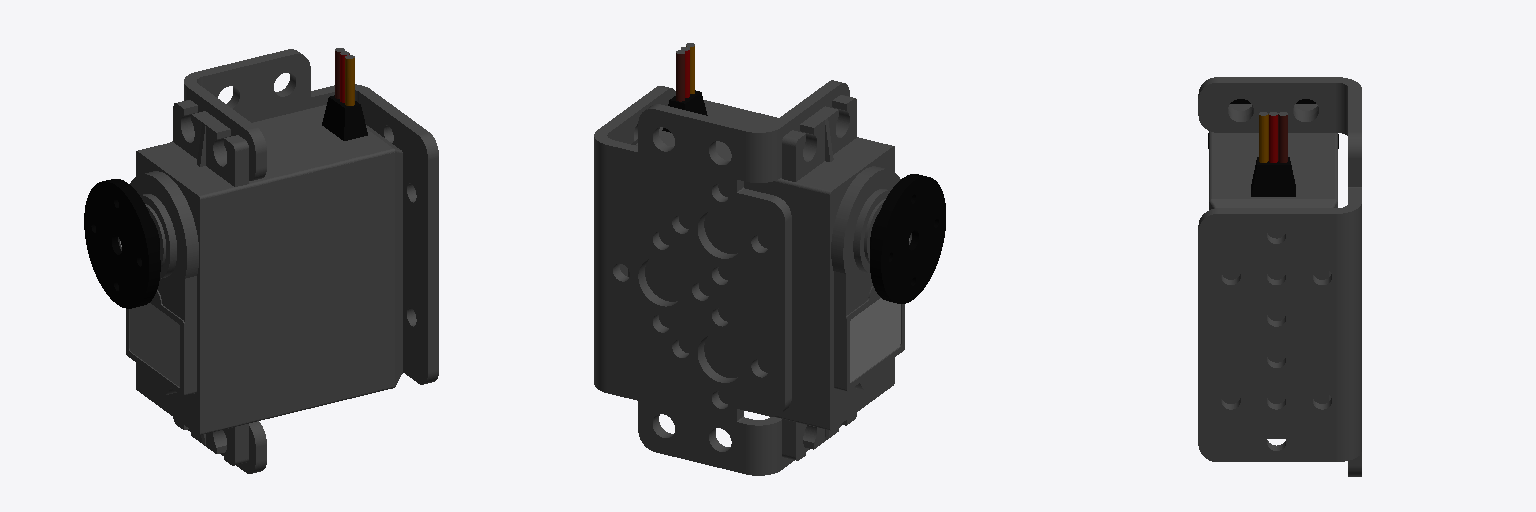
File: art_03.obj
The picture shows the model from 3 angles: view 1: azimuth 30°, elevation 25°; view 2: azimuth 150°, elevation 25°; view 3: azimuth 270°, elevation 25°; orthographic projection.
Parts seen in each view (by area): view 1: Imported002, Imported004, Imported003; view 2: Imported004, Imported002, Imported003; view 3: Imported004, Imported002.
Boxes of the visible parts, <box> form: Imported002: <box>126,48,402,465</box>; Imported004: <box>170,49,438,473</box>; Imported003: <box>84,179,160,308</box>; Imported004: <box>594,80,849,475</box>; Imported002: <box>628,43,904,460</box>; Imported003: <box>870,174,945,303</box>; Imported004: <box>1198,77,1361,476</box>; Imported002: <box>1209,104,1337,438</box>.
Size of the model in its own units: 1.99 by 2.45 by 0.9843.